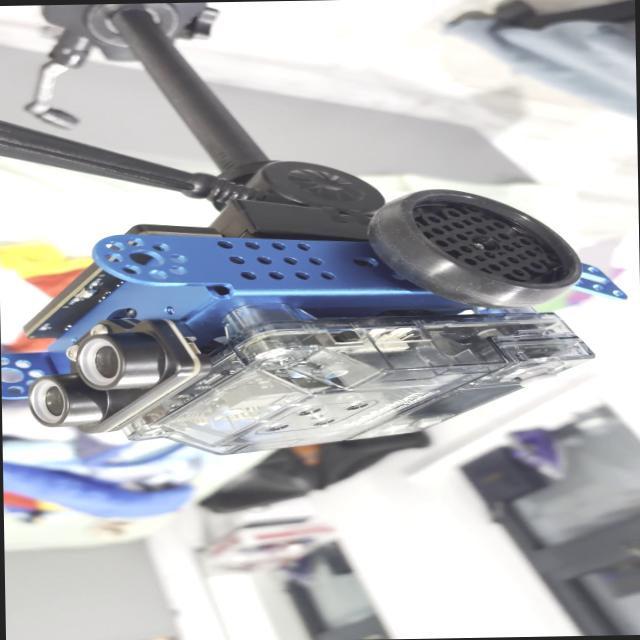mbot-detection: (0, 178, 633, 465)
